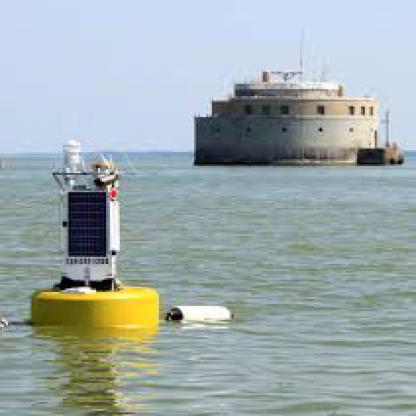buoy: (8, 133, 167, 332)
